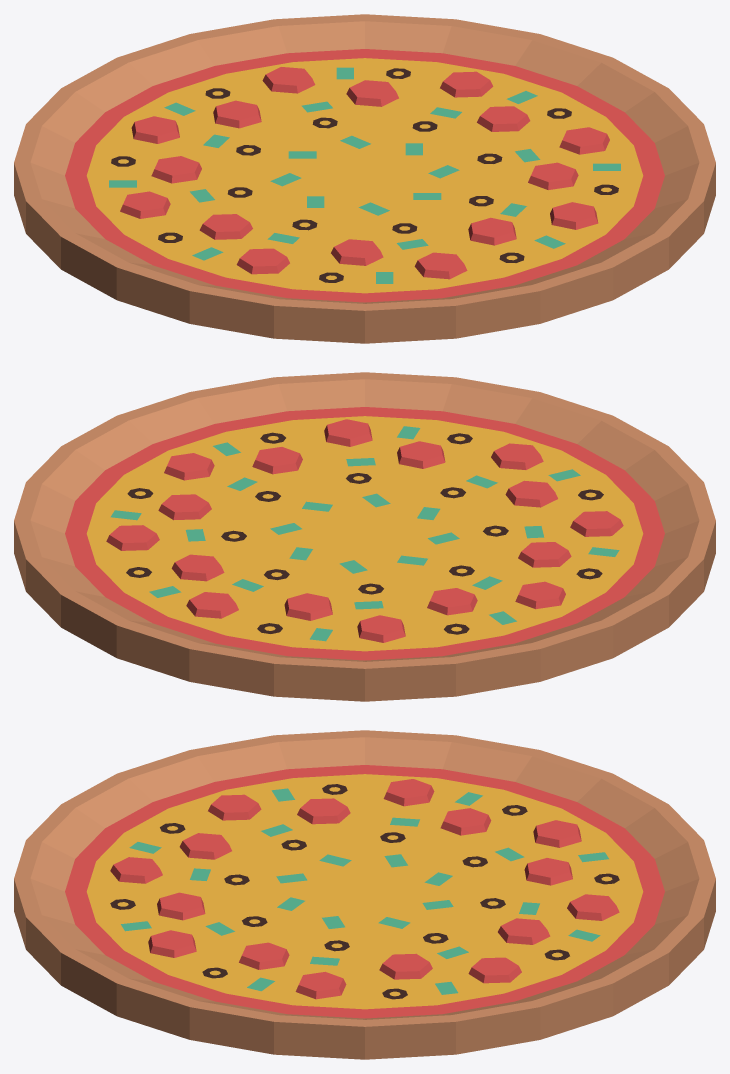
File: pizza.dae
The picture shows the model from 3 angles, top to bottom: view 1: azimuth 30°, elevation 25°; view 2: azimuth 150°, elevation 25°; view 3: azimuth 270°, elevation 25°; orthographic projection.
Visible parts, largest first — view 1: slice1, slice0, slice2, slice5, slice4, slice6, slice7, slice3; view 2: slice6, slice7, slice5, slice2, slice3, slice1, slice0, slice4; view 3: slice3, slice4, slice0, slice7, slice2, slice5, slice1, slice6.
Boxes of the visible parts, box(x1,y1,x2,y2) form: slice1: box(274, 176, 540, 343); slice0: box(61, 176, 364, 338); slice2: box(365, 175, 703, 323); slice5: box(190, 14, 455, 175); slice4: box(365, 19, 668, 175); slice6: box(26, 34, 364, 175); slice7: box(14, 124, 364, 268); slice3: box(366, 88, 715, 232); slice6: box(189, 534, 455, 701); slice7: box(365, 534, 668, 696); slice5: box(26, 533, 364, 681); slice2: box(274, 372, 539, 533); slice3: box(61, 377, 364, 533); slice1: box(365, 392, 703, 533); slice0: box(365, 482, 715, 626); slice4: box(14, 446, 363, 590); slice3: box(116, 892, 364, 1059); slice4: box(365, 892, 613, 1059); slice0: box(117, 730, 364, 891); slice7: box(365, 730, 612, 891); slice2: box(14, 878, 364, 1015); slice5: box(365, 878, 715, 1015); slice1: box(14, 774, 363, 891); slice6: box(366, 774, 715, 891).
Bounding box in the file's own units: 0.8418 × 0.0435 × 0.8418.
